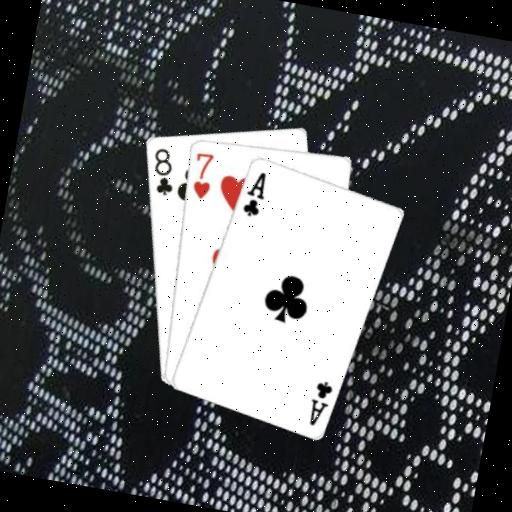7H: (185, 147, 217, 201)
8C: (144, 143, 181, 198)
AC: (303, 375, 335, 429), (237, 166, 269, 219)
